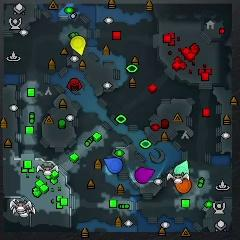p1: (104, 158, 123, 173)
p2: (174, 159, 190, 180)
p3: (135, 168, 154, 183)
p4: (70, 36, 87, 56)
p5: (174, 177, 192, 193)
